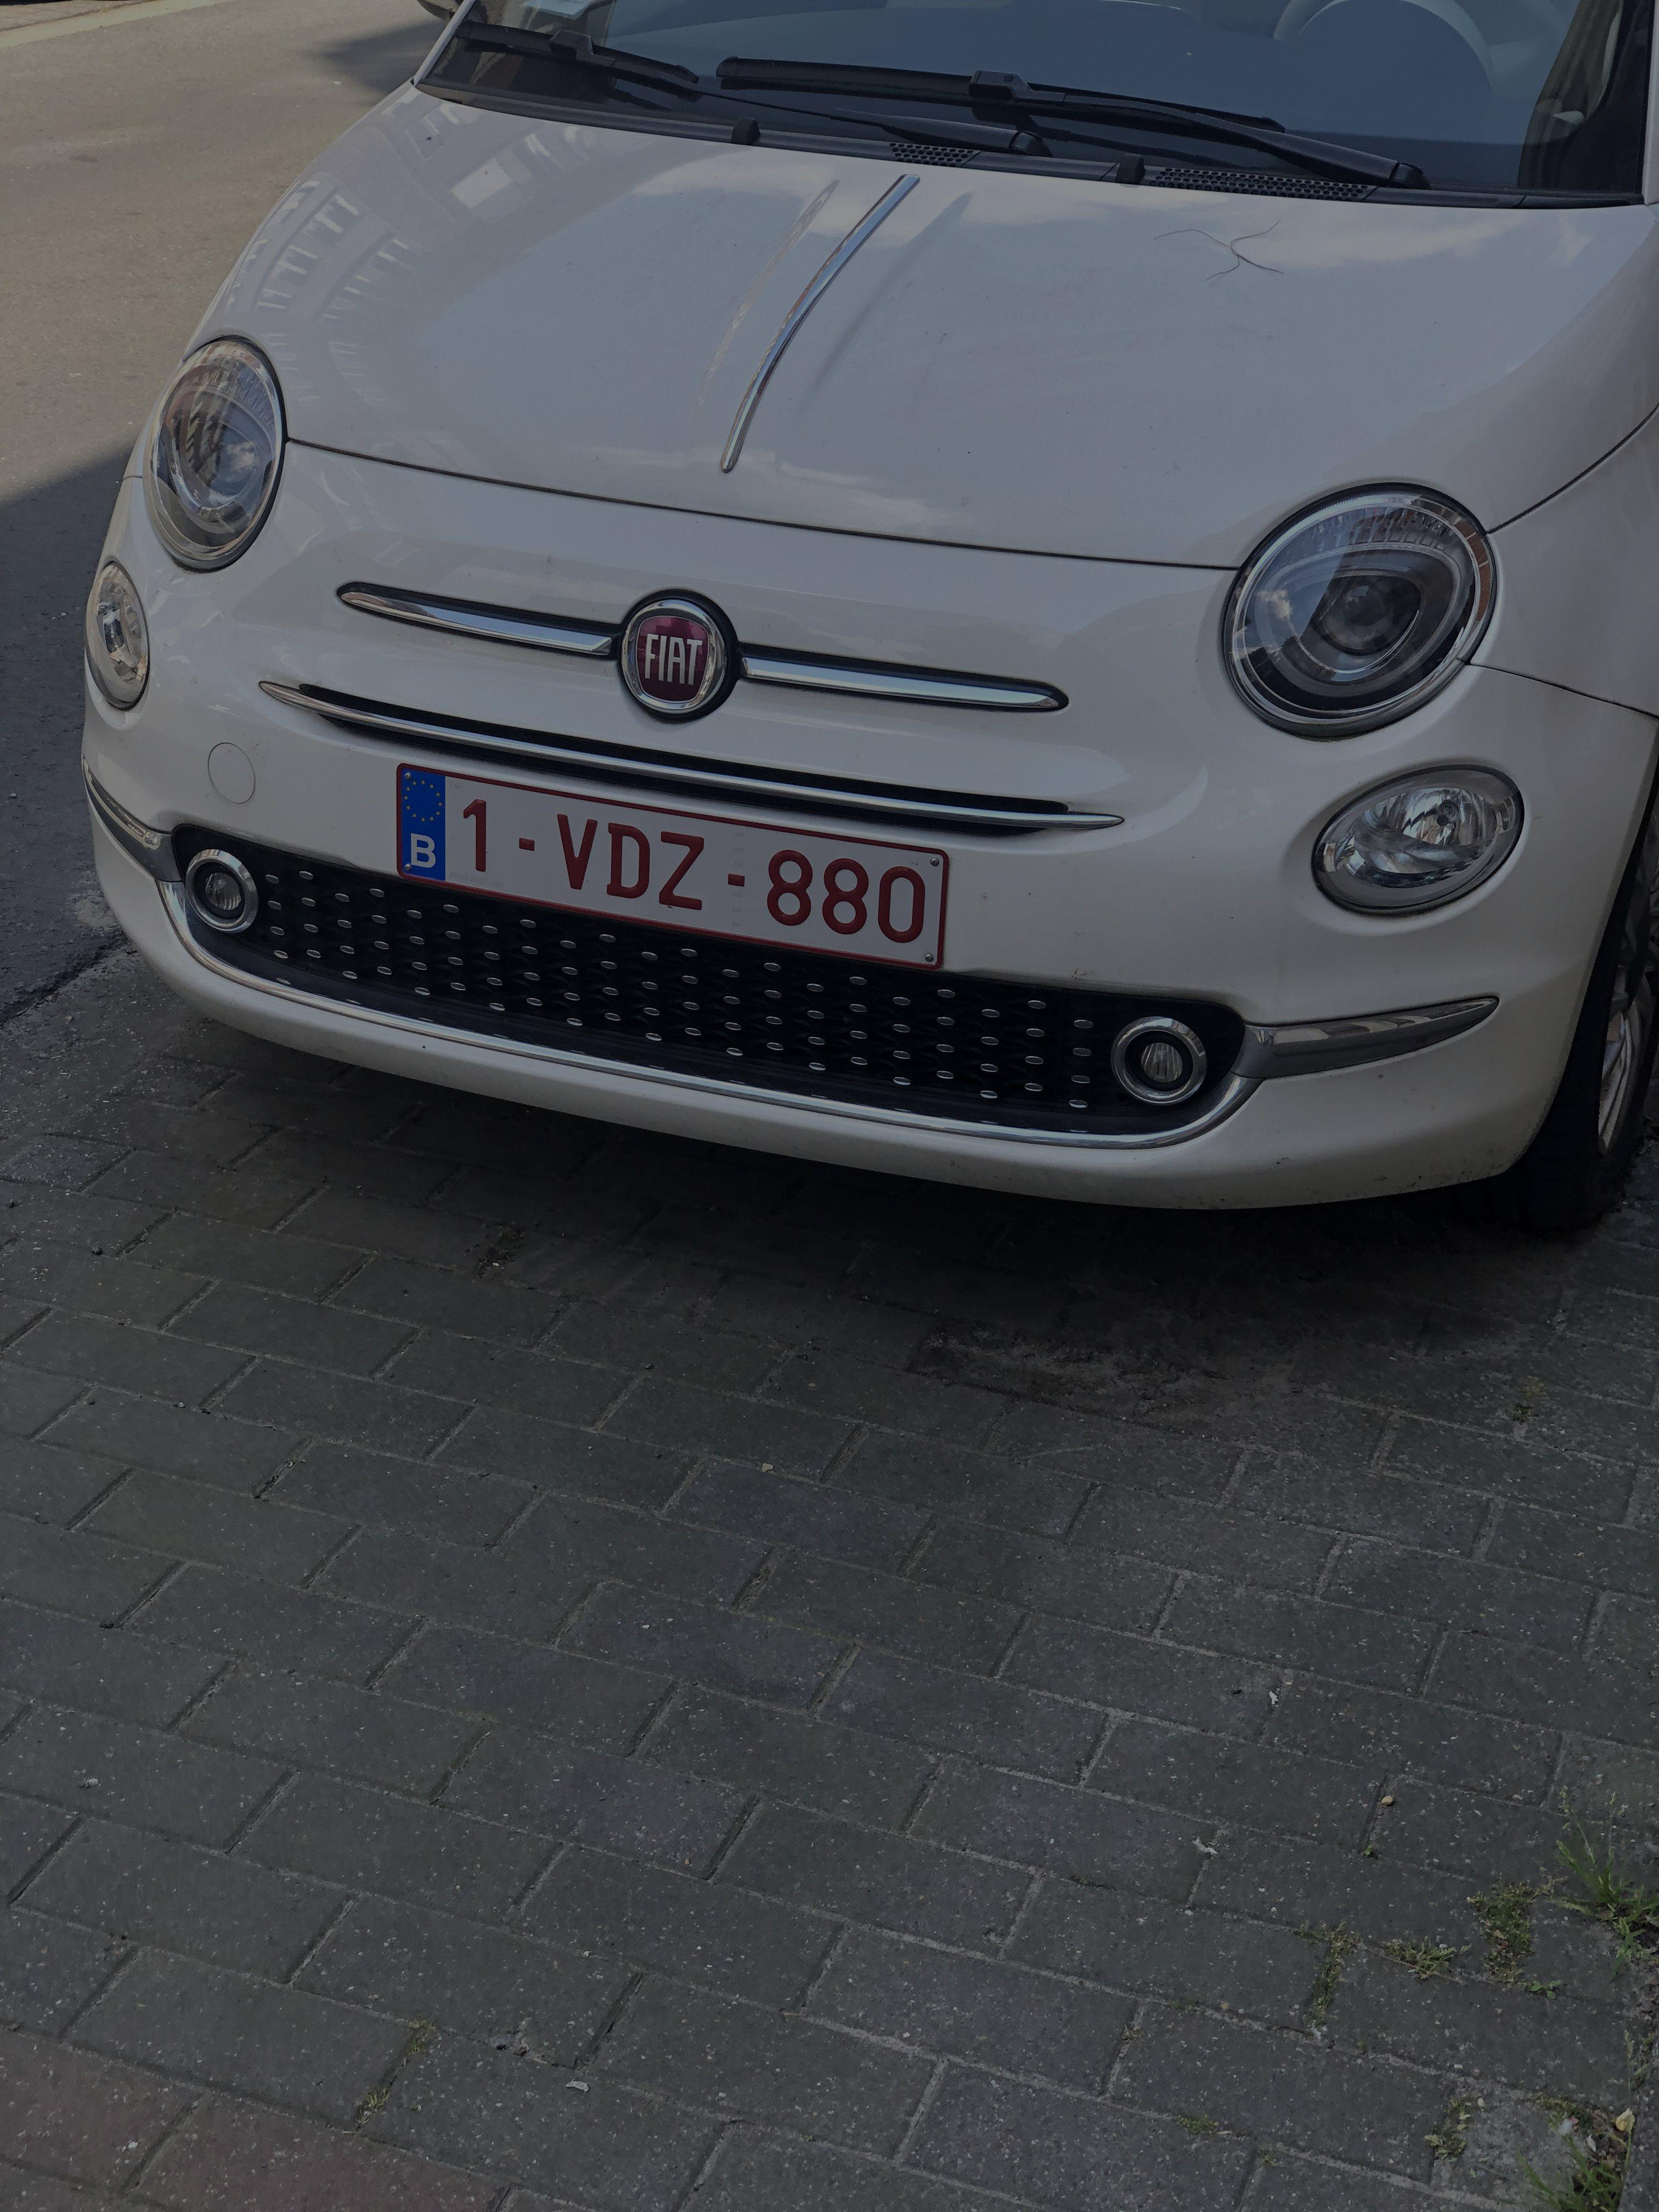plate: (377, 743, 963, 979)
